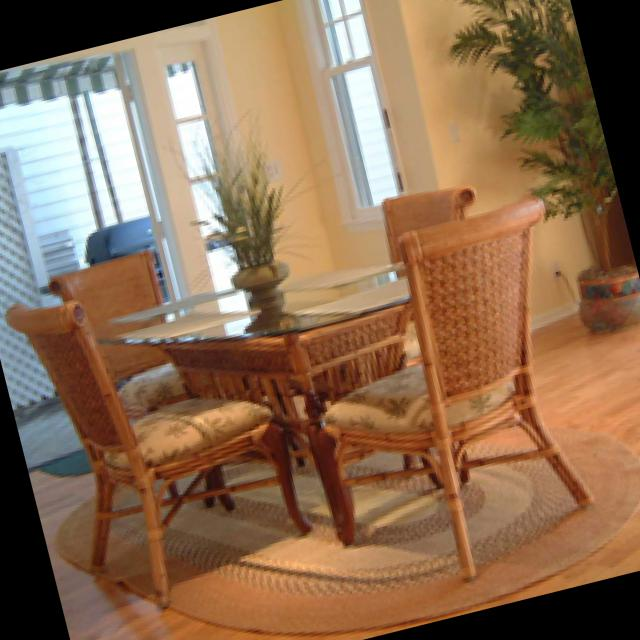2001: (300, 0, 399, 201)
barbacue: (81, 212, 168, 288)
chair: (44, 248, 159, 323), (379, 184, 472, 259)
chair -occluded-: (318, 198, 591, 577), (2, 297, 307, 604)
door handle: (0, 47, 204, 462)
place mat: (292, 274, 404, 310), (117, 308, 248, 338), (290, 265, 381, 284)
plant -x: (452, 0, 640, 328), (193, 119, 285, 315)
rug -partially obscured-: (49, 426, 640, 633)
table -X: (90, 260, 409, 540)
wall outlets: (544, 253, 559, 279)
